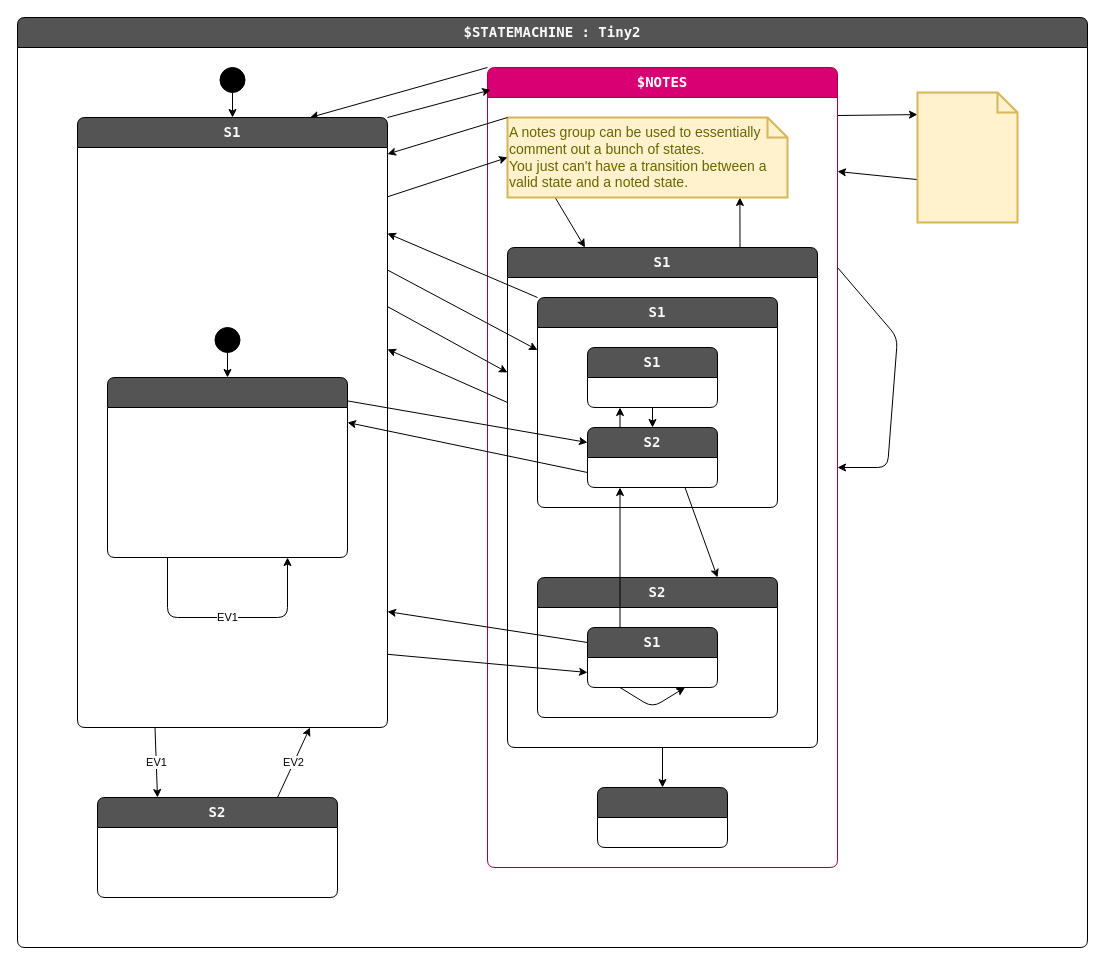
This 1105x965 diagram has some shape labels left out. Here are the shapes that lost their labels. From the top down, the centre of each, then its label:
At (x=967, y=157): "blah".
At (x=227, y=467): "S1_1".
At (x=662, y=817): "S4".
